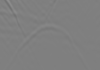hyperbola: (14, 22, 92, 64)
